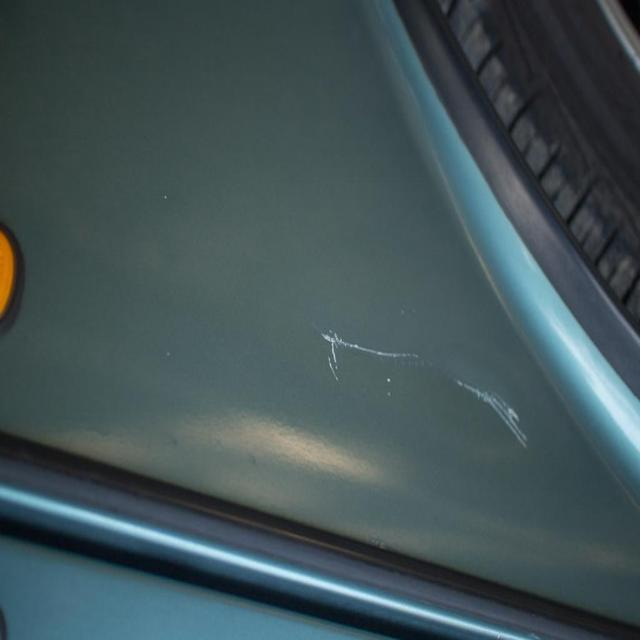scratch: (307, 320, 538, 467)
